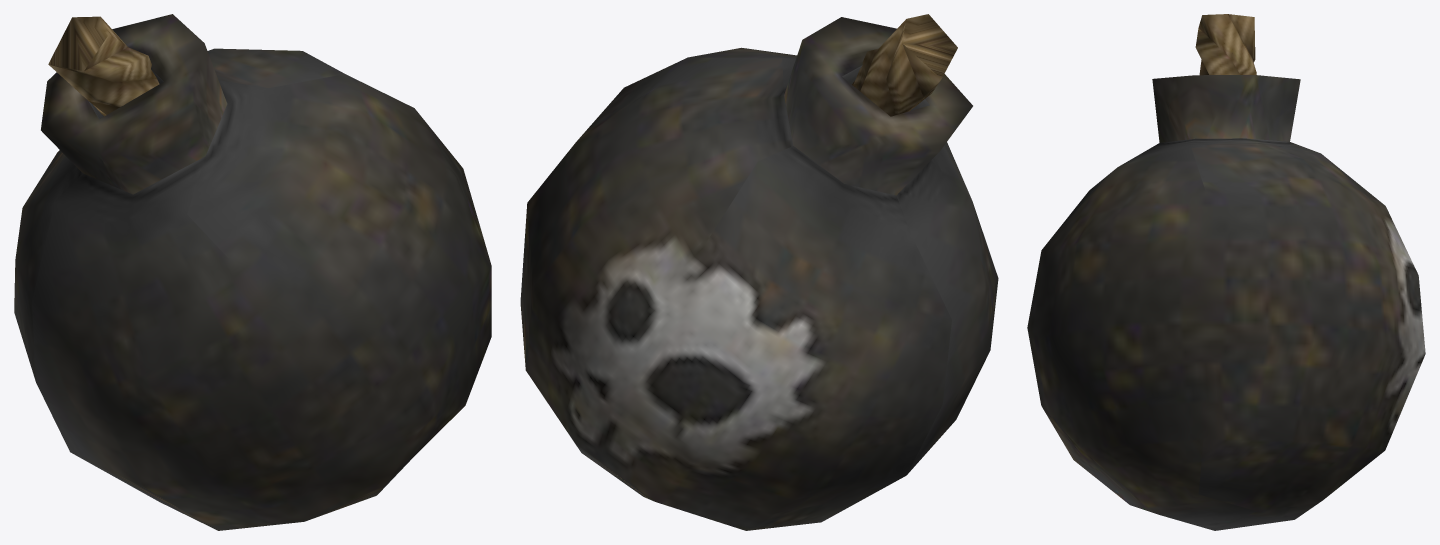
The model's file is Bomb.glb.
The picture shows the model from 3 angles, left to right: view 1: azimuth 30°, elevation 25°; view 2: azimuth 150°, elevation 25°; view 3: azimuth 270°, elevation 25°; orthographic projection. The views are drawn at different scales.
Visible parts, largest first — view 1: 001-0-1; view 2: 001-0-1; view 3: 001-0-1.
Part boxes in pixels (x1,y1,x2,y2): 001-0-1: (14,14,491,530); 001-0-1: (520,14,998,530); 001-0-1: (1027,14,1425,530).
Bounding box in the file's own units: 1.7 × 2.04 × 1.7.
1 material, 1 textured.
